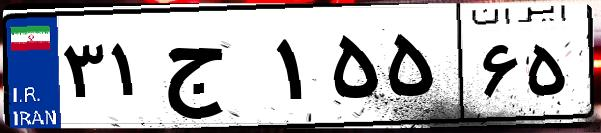1: (270, 28, 330, 110), (110, 28, 158, 98)
3: (57, 26, 110, 100)
5: (385, 28, 445, 110), (330, 28, 385, 110), (525, 38, 570, 115)
6: (475, 38, 525, 113)
ج: (158, 20, 270, 120)
